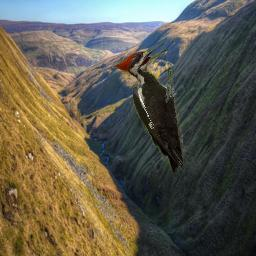Woodpecker: (112, 42, 184, 173)
